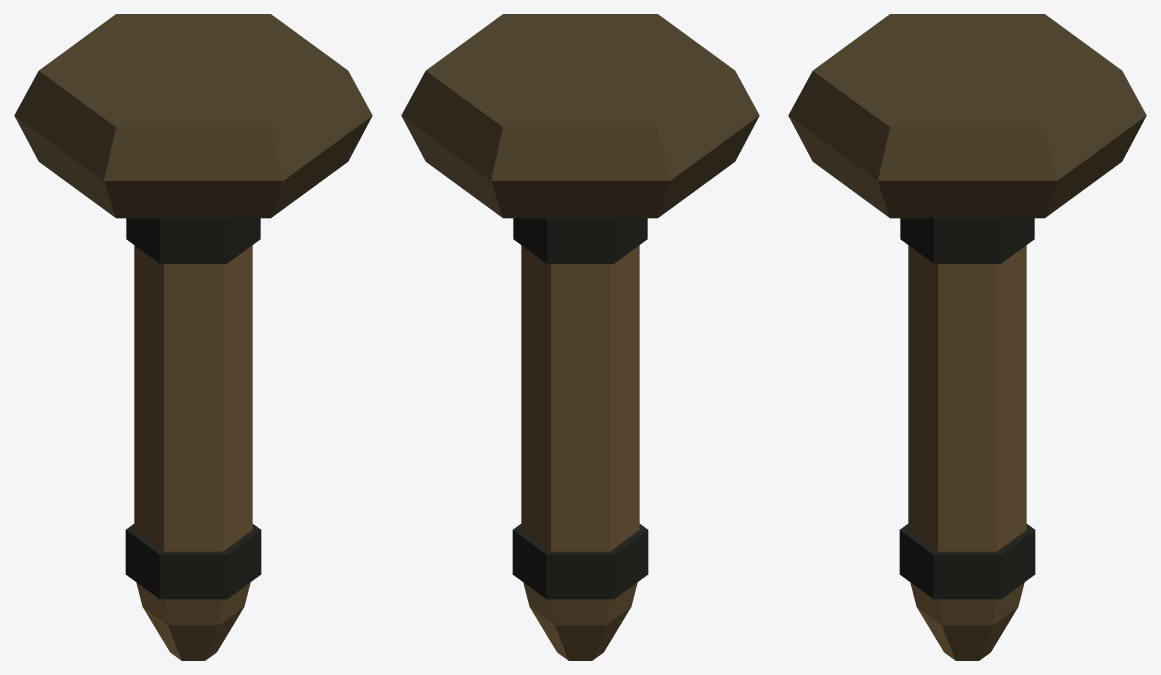
Rendered from Pins_Test1.fbx.
3 renders of one model, left to right at view 1: azimuth 30°, elevation 25°; view 2: azimuth 150°, elevation 25°; view 3: azimuth 270°, elevation 25°, orthographic.
Parts seen in each view (by area): view 1: Circle; view 2: Circle; view 3: Circle.
Boxes of the visible parts, x1=… form: Circle: x1=14, y1=14, x2=372, y2=660; Circle: x1=401, y1=14, x2=759, y2=660; Circle: x1=788, y1=14, x2=1146, y2=660.
Size of the model in its own units: 165 by 342 by 191.
